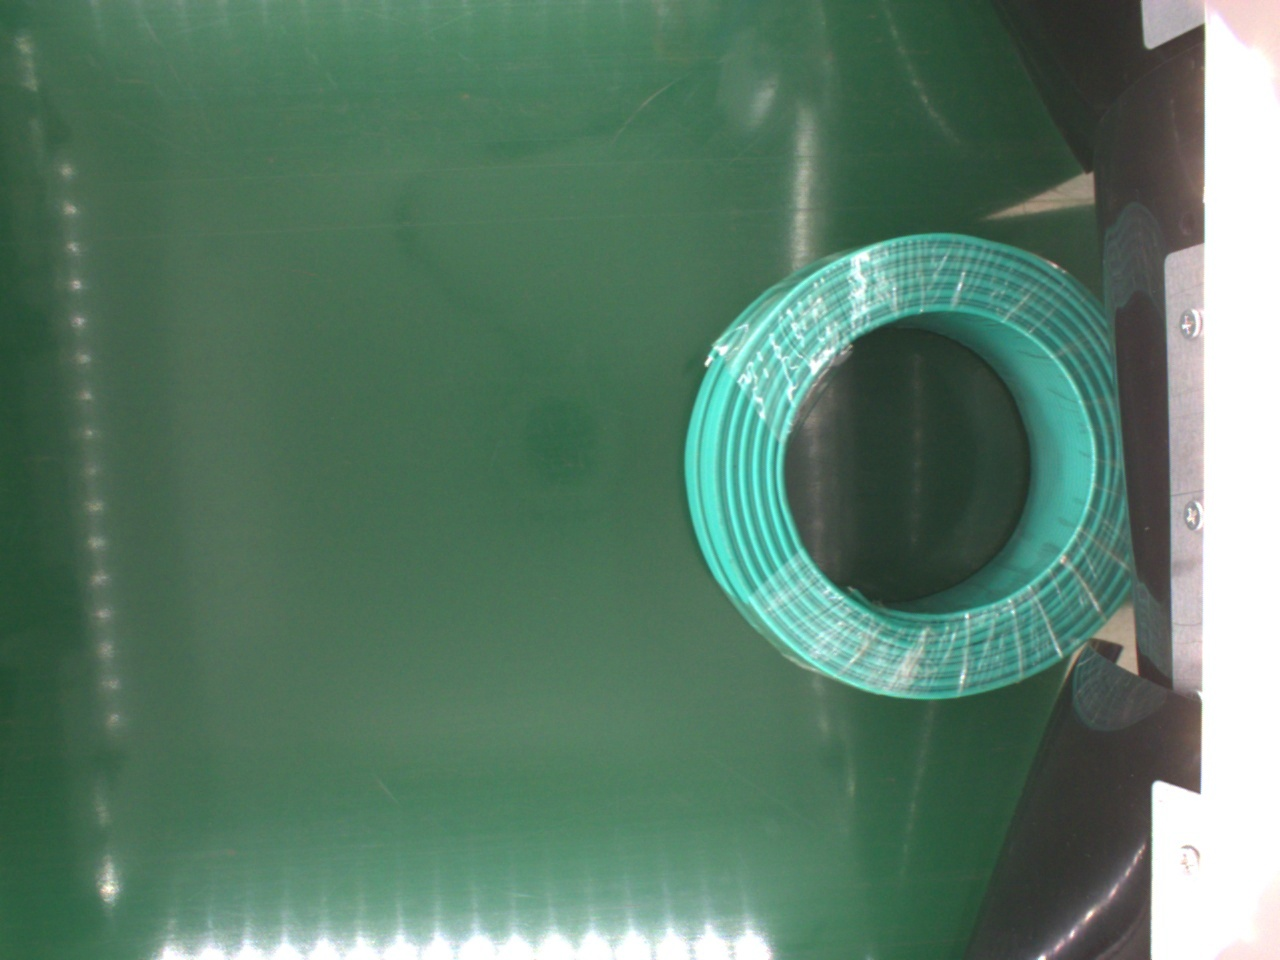green: (680, 228, 1140, 704)
